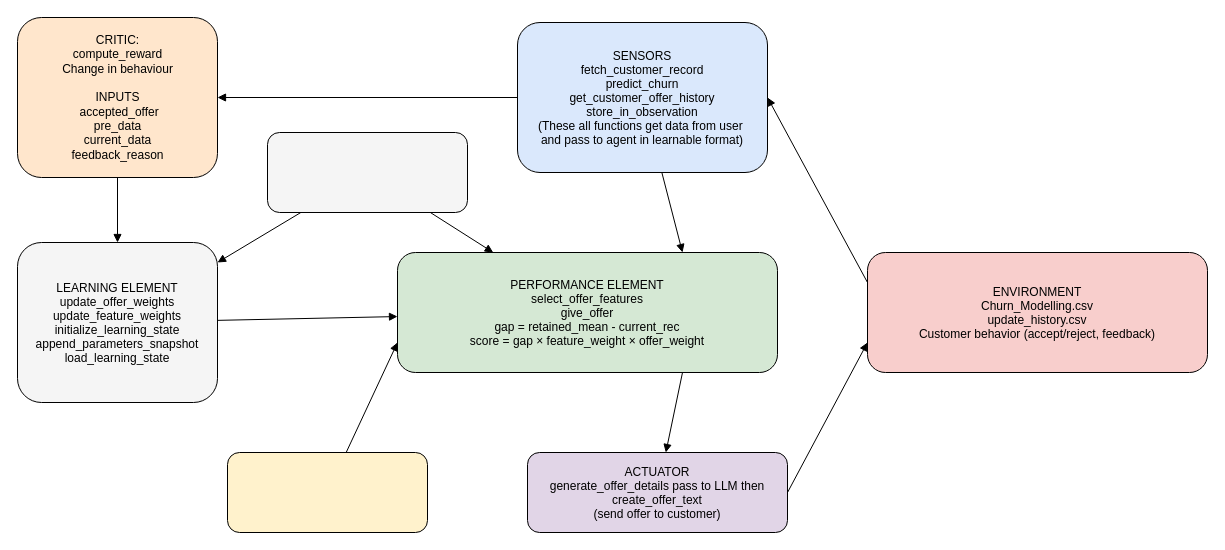
This 1225x550 diagram has some shape labels left out. Here are the shapes that lost their labels. From the top down, the centre of each, then its label:
the point at 367,172: STATE feature_weights offer_weights
the point at 327,492: PROBLEM GENERATOR safe_selection (epsilon-greedy exploration)
